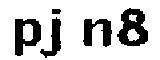8: (117, 6, 149, 49)
j: (42, 8, 67, 60)
n: (79, 15, 114, 52)
p: (11, 15, 41, 60)
